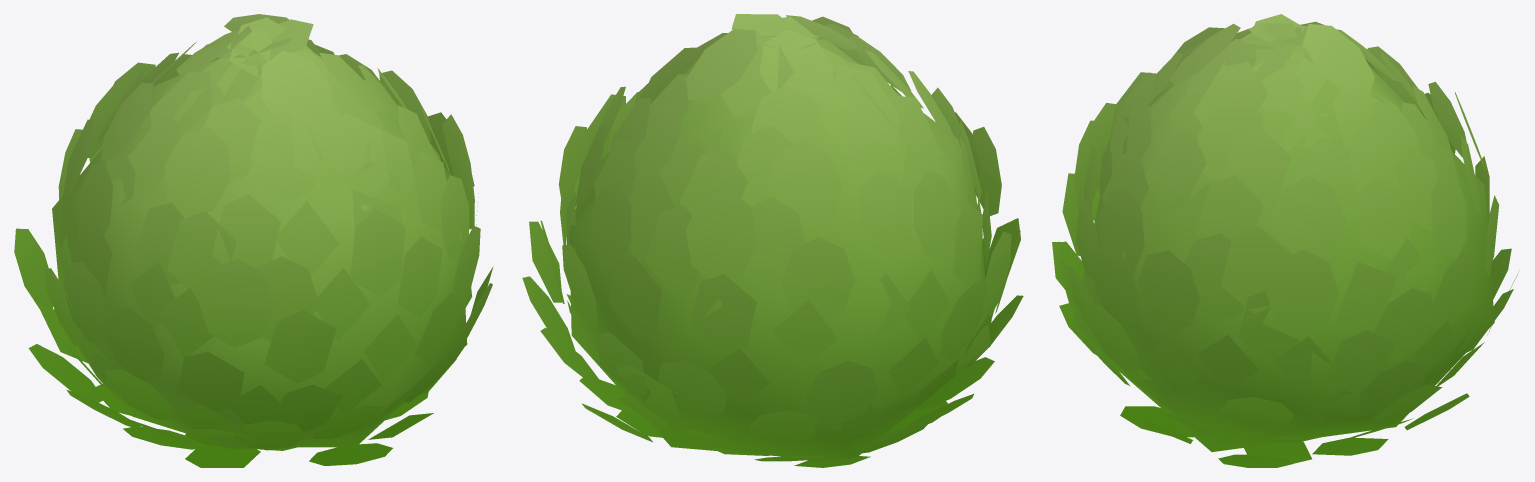
The model's file is bushesgreen.glb.
The picture shows the model from 3 angles, left to right: view 1: azimuth 30°, elevation 25°; view 2: azimuth 150°, elevation 25°; view 3: azimuth 270°, elevation 25°; orthographic projection. The views are drawn at different scales.
Visible parts, largest first — view 1: bushesgreen; view 2: bushesgreen; view 3: bushesgreen.
Part boxes in pixels (x1,y1,x2,y2): bushesgreen: (14,14,493,467); bushesgreen: (522,14,1023,467); bushesgreen: (1052,14,1517,467).
Size of the model in its own units: 1.93 by 1.84 by 1.93.
Materials: 1 (1 with a texture image).
